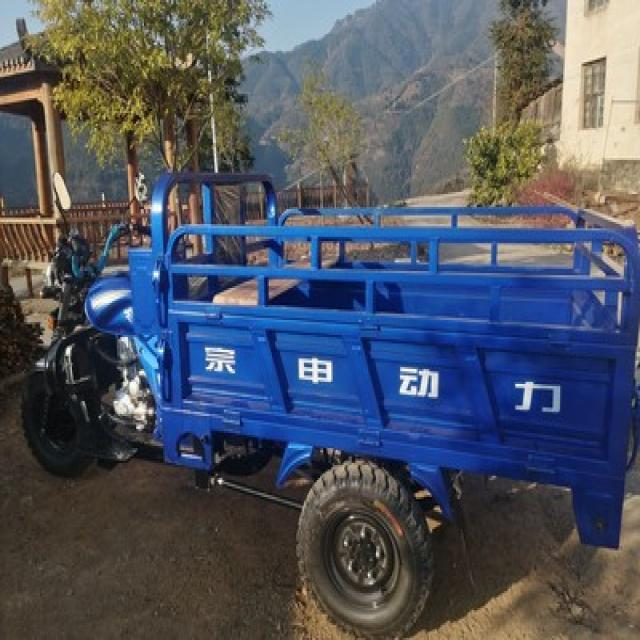tricycle: (19, 166, 632, 638)
